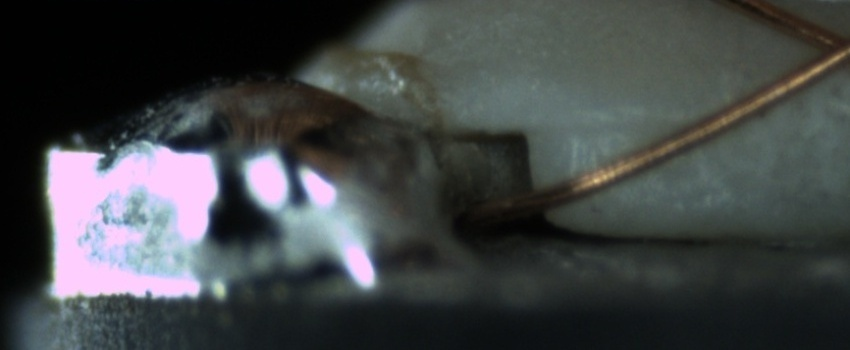CL: (794, 12, 850, 81)
DL: (563, 90, 697, 158)
